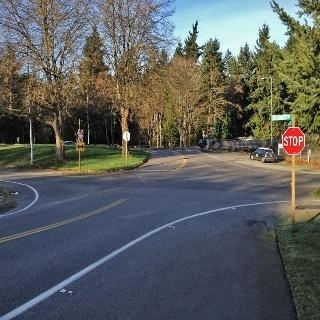sign_stop: (283, 129, 305, 155)
